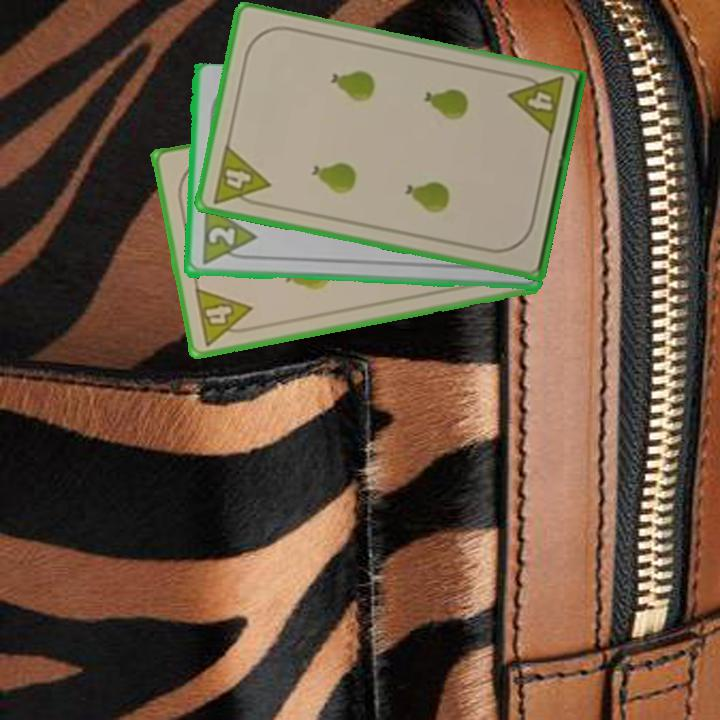2p: (198, 204, 258, 268)
4p: (209, 141, 273, 211), (505, 70, 567, 140), (191, 284, 258, 348)
